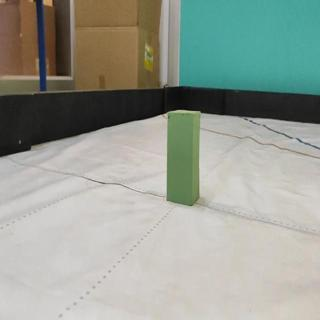greenbox: (164, 108, 202, 207)
